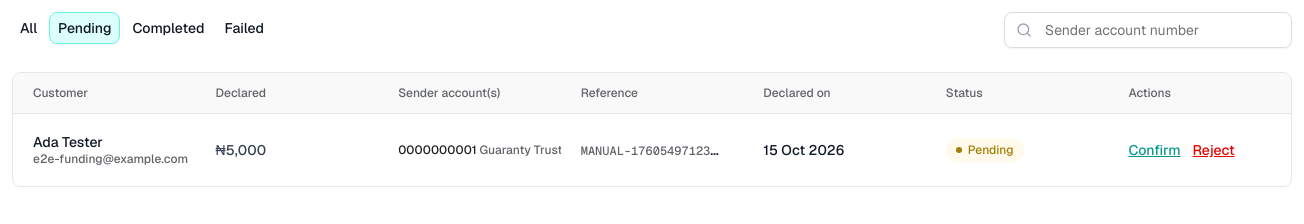
it: FundingRequestsTab › strips non-digits from the account search and hints until 10 digits
Type "00a00" into the field labelled "Sender account number" at {"x": 1148, "y": 30}, box [1004,12,1292,48]
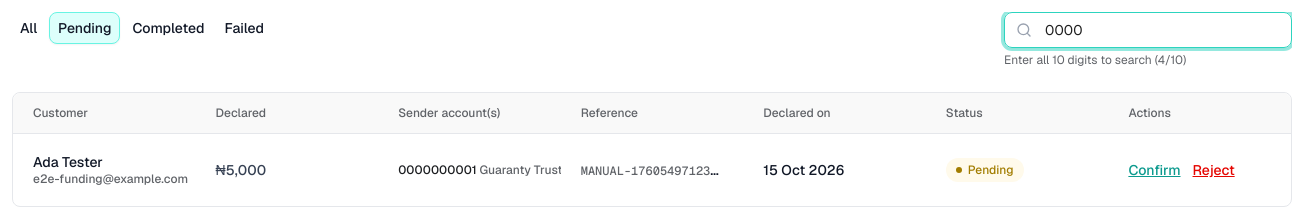
Now the field named "Sender account number" holds "0000"
Now the text "Enter all 10 digits to search (4/10)" is shown, box [1004,52,1186,68]
Type "000001" into the field named "Sender account number" at {"x": 1148, "y": 30}, box [1004,12,1292,48]
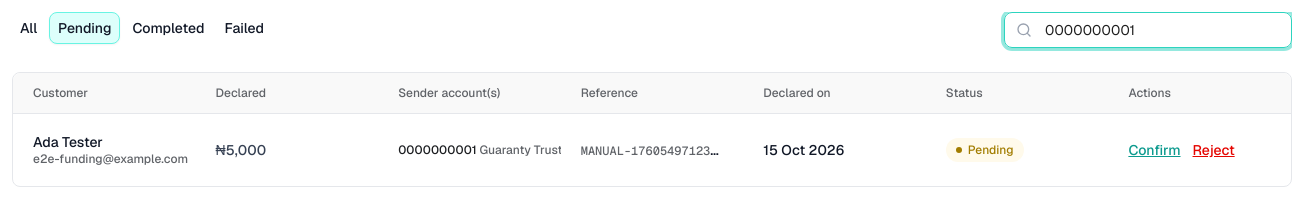
Now the field named "Sender account number" holds "0000000001", box [1004,12,1292,48]
Now the text "Enter all 10 digits" is gone
